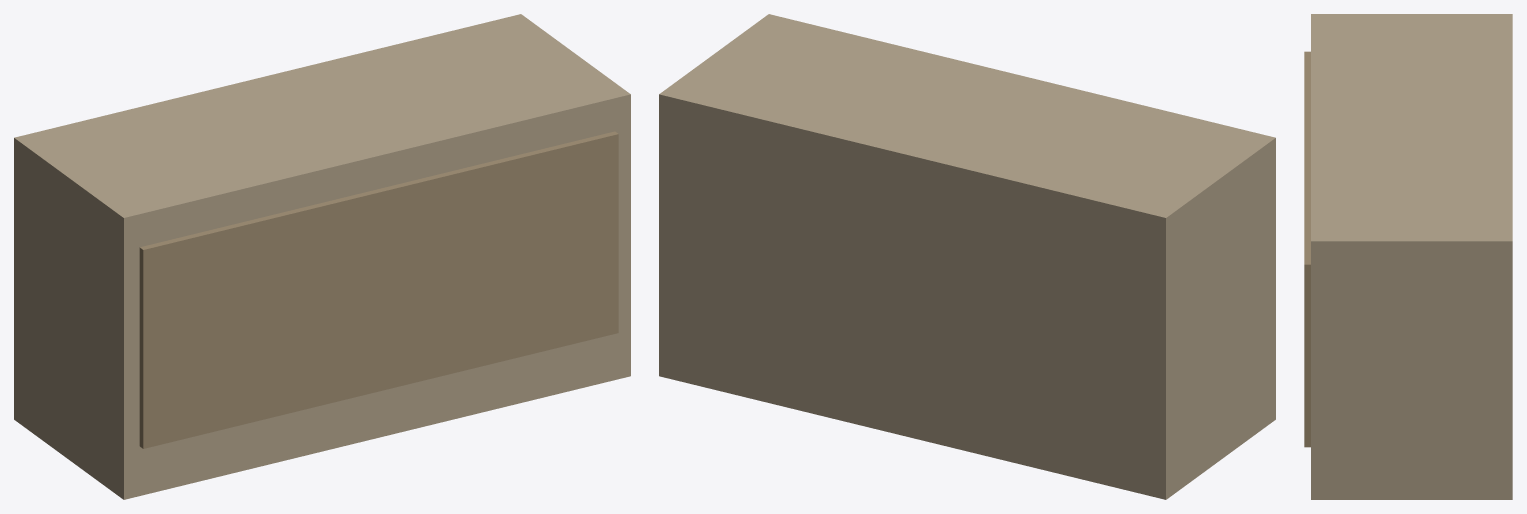
Rendered from cabinet.glb.
3 renders of one model, left to right at view 1: azimuth 30°, elevation 25°; view 2: azimuth 150°, elevation 25°; view 3: azimuth 270°, elevation 25°, orthographic. The views are drawn at different scales.
Visible parts, largest first — view 1: cabinet; view 2: cabinet; view 3: cabinet.
Boxes of the visible parts, bbox=[...] form: cabinet: bbox=[14, 14, 630, 499]; cabinet: bbox=[659, 14, 1275, 499]; cabinet: bbox=[1304, 14, 1512, 499].
Bounding box in the file's own units: 1.6 × 0.85 × 0.62.
